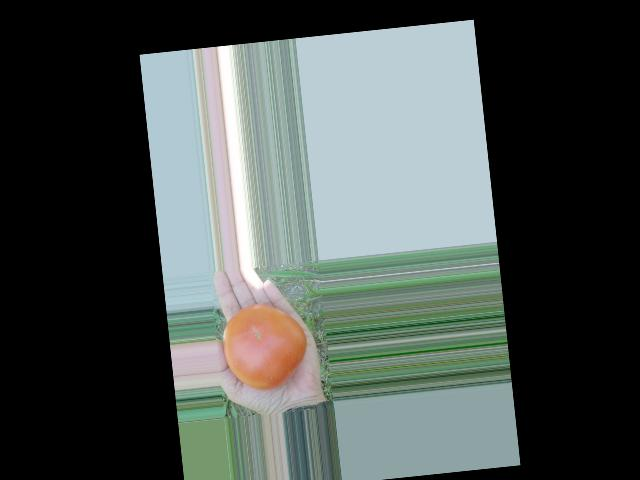tomato: (219, 299, 311, 393)
